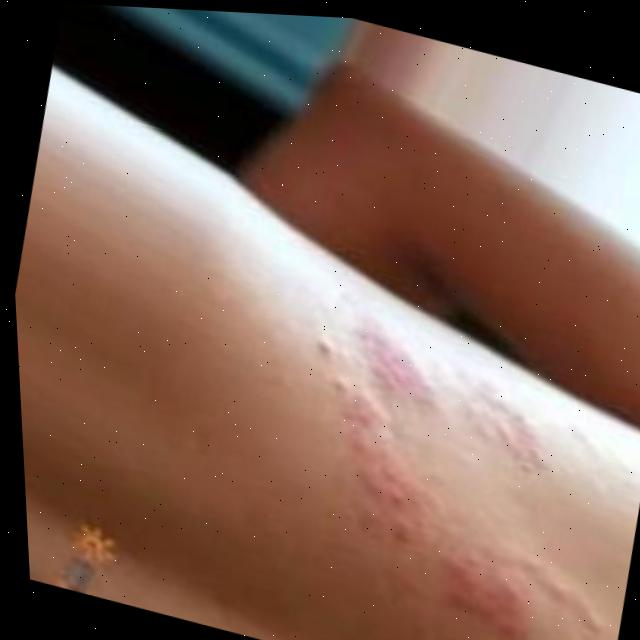Shingles: (269, 324, 598, 639)
